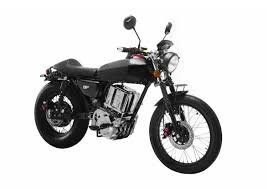motor: (34, 30, 222, 174)
